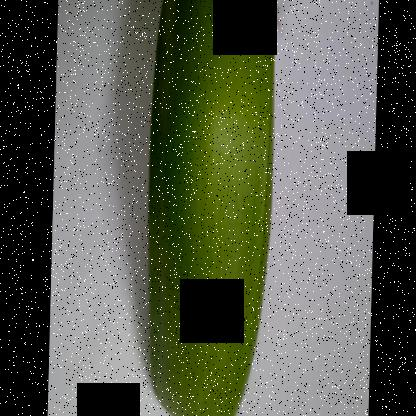freshunripe: (135, 0, 283, 415)
